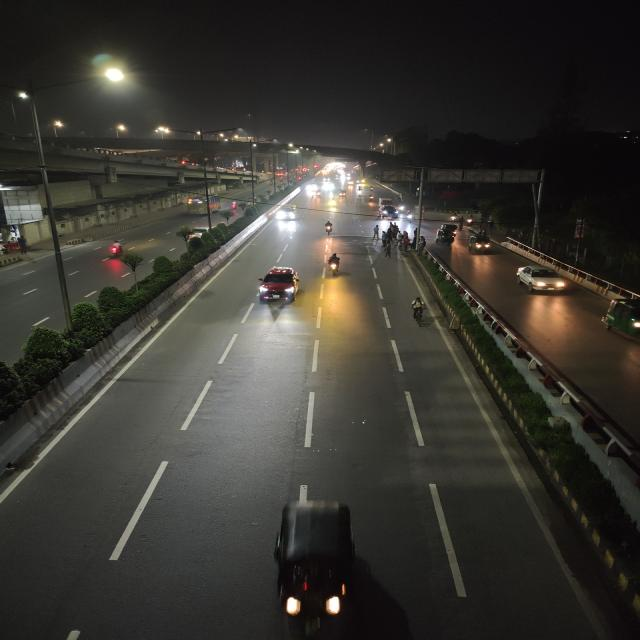bicycle: (407, 296, 432, 326)
bus: (186, 194, 223, 216)
car: (251, 264, 304, 312), (514, 263, 569, 296), (376, 204, 401, 220), (277, 204, 299, 222)
cng: (264, 480, 385, 640), (598, 297, 640, 341), (468, 233, 494, 256), (436, 224, 459, 244)
motorcycle: (99, 236, 131, 262), (323, 251, 345, 279), (321, 218, 337, 236)
pedestrian: (390, 222, 401, 238), (383, 242, 394, 258), (416, 234, 427, 250)
